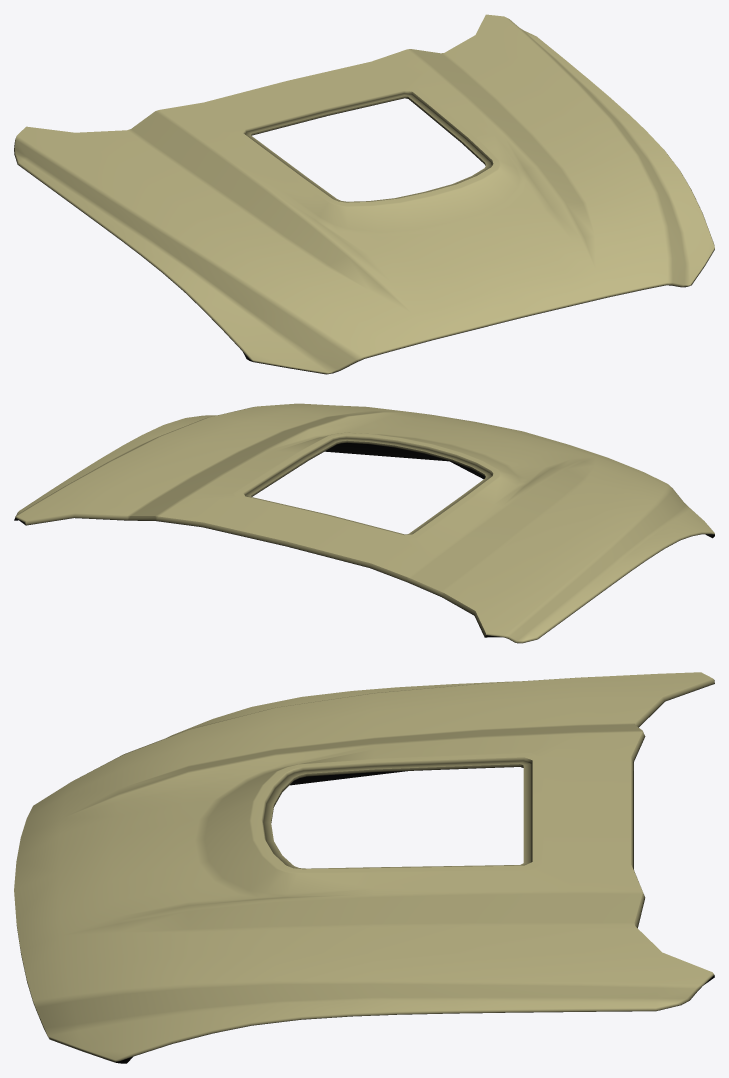
Rendered from Mustang16_Hood_06_Duco.fbx.
The picture shows the model from 3 angles, top to bottom: view 1: azimuth 30°, elevation 25°; view 2: azimuth 150°, elevation 25°; view 3: azimuth 270°, elevation 25°; orthographic projection. The views are drawn at different scales.
Visible parts, largest first — view 1: Mustang16_Hood_06_Duco; view 2: Mustang16_Hood_06_Duco; view 3: Mustang16_Hood_06_Duco.
Part boxes in pixels (x1=…): Mustang16_Hood_06_Duco: x1=14, y1=14, x2=714, y2=374; Mustang16_Hood_06_Duco: x1=14, y1=403, x2=714, y2=643; Mustang16_Hood_06_Duco: x1=14, y1=672, x2=714, y2=1063.
Size of the model in its own units: 168 by 26.72 by 149.
